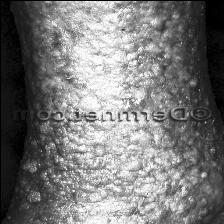Non-Cancerous Skin Condition: (25, 124, 213, 224), (29, 0, 200, 105)
